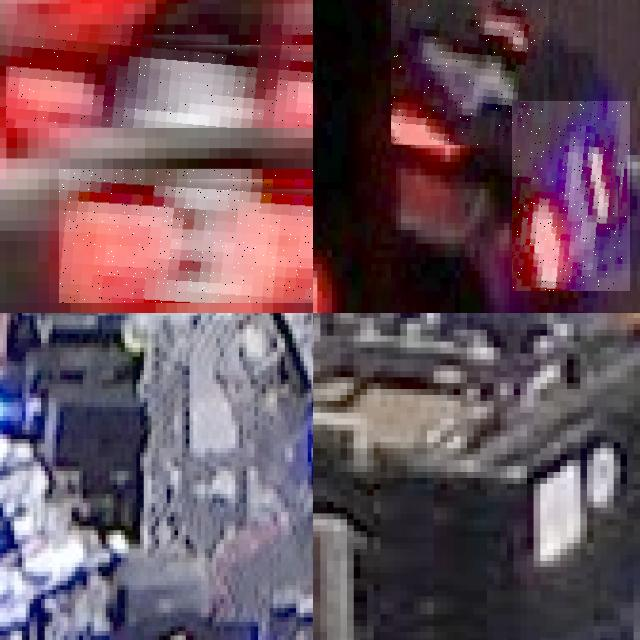R3: (59, 169, 313, 303), (6, 24, 313, 127)
R4: (391, 0, 548, 145), (512, 101, 630, 291)
